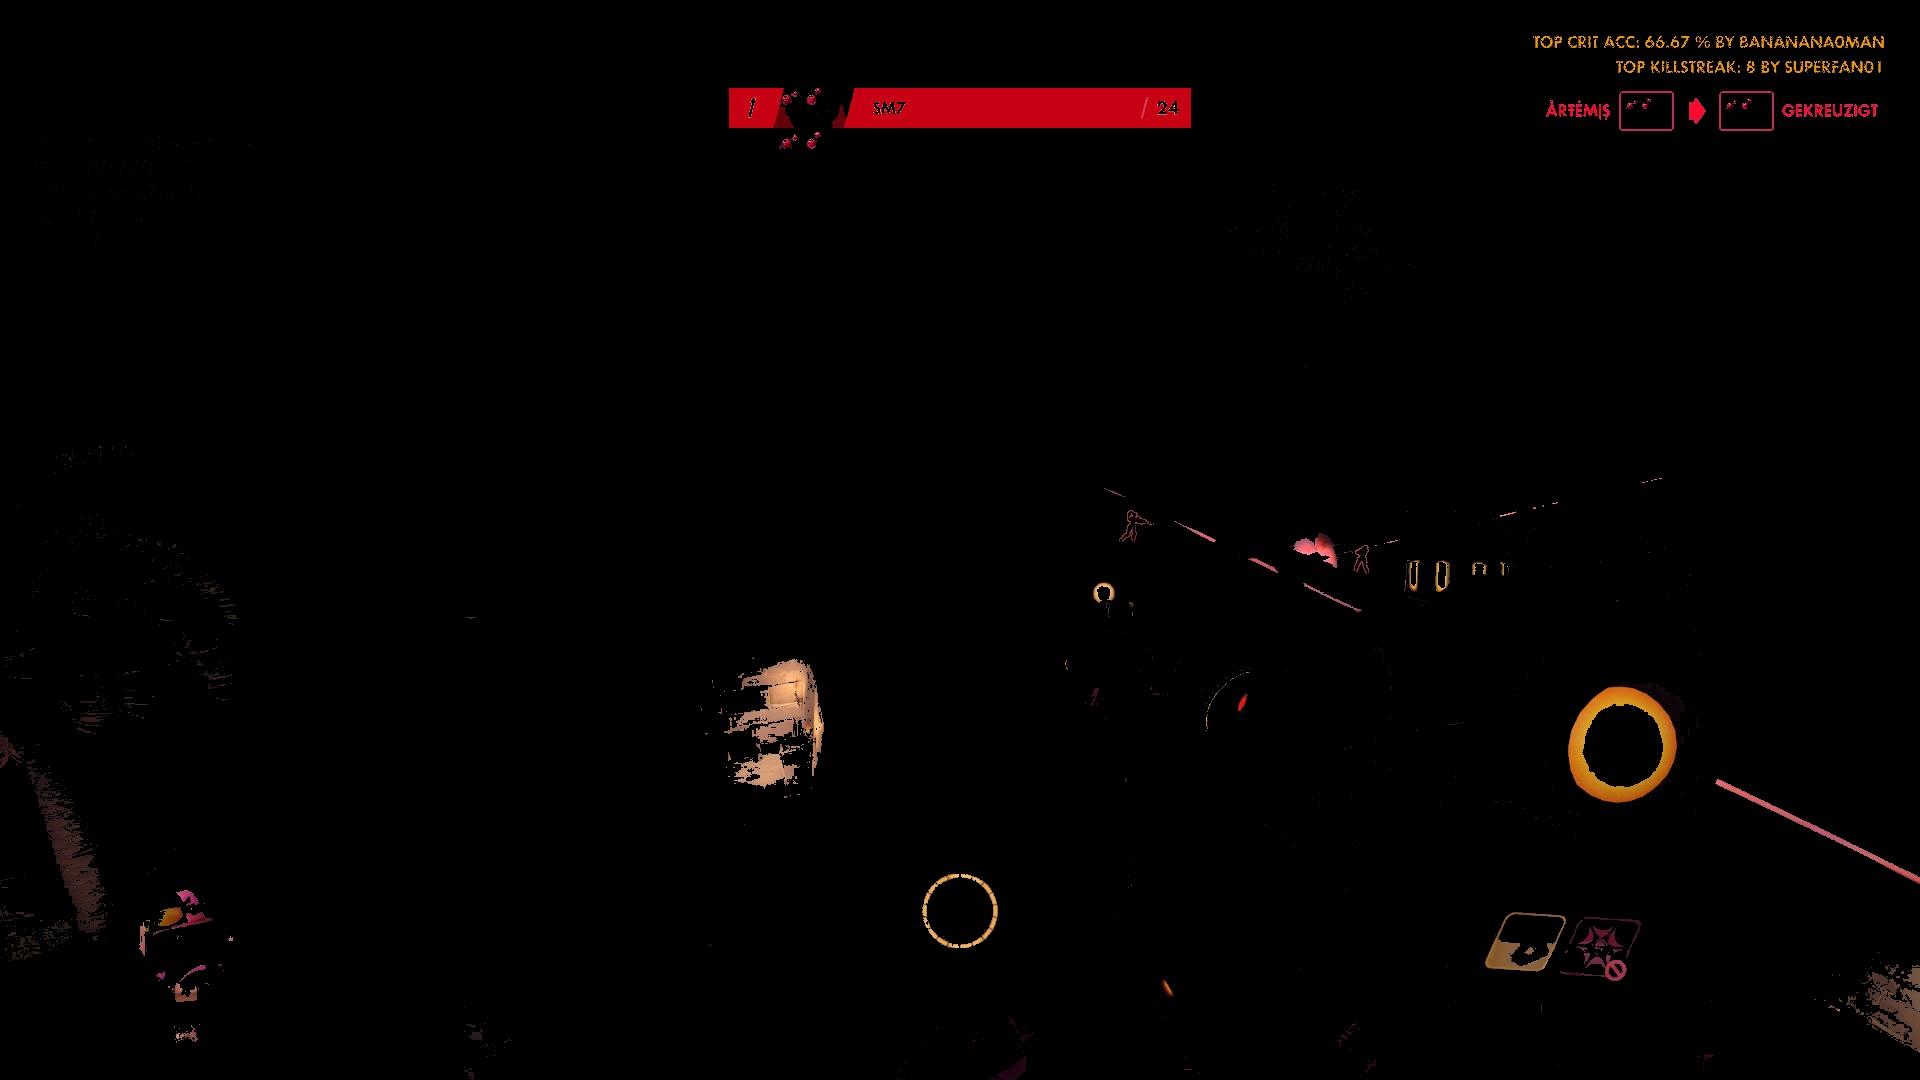widowmaker: (1120, 510, 1145, 546), (1354, 546, 1371, 574)
